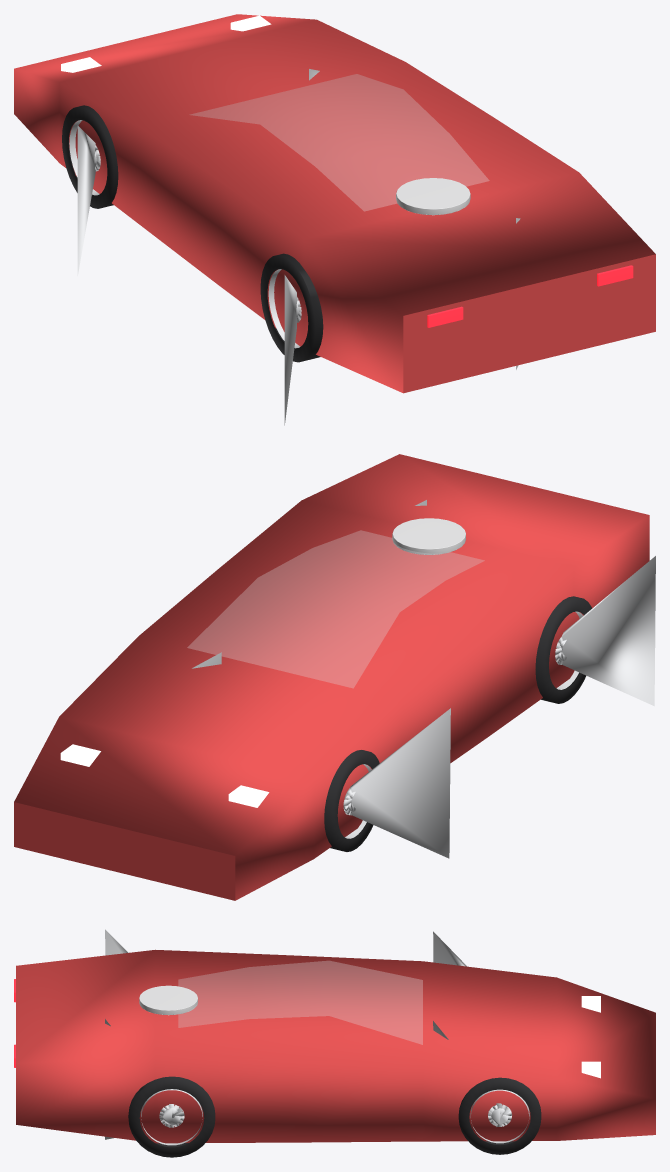
File: Car_Porsche_917_Living_Legend_1970s.glb
The picture shows the model from 3 angles, top to bottom: view 1: azimuth 30°, elevation 25°; view 2: azimuth 150°, elevation 25°; view 3: azimuth 270°, elevation 25°; orthographic projection. The views are drawn at different scales.
Visible parts, largest first — view 1: BODY_917_MainShell, GLASS_Greenhouse, WHEEL_RR_Tire, BODY_Exposed_Fan, WHEEL_FR_Rim, WHEEL_FR_Tire, WHEEL_RR_Rim, LIGHT_Taillights, LIGHT_Headlights; view 2: BODY_917_MainShell, GLASS_Greenhouse, WHEEL_FR_Rim, WHEEL_RR_Rim, BODY_Exposed_Fan, WHEEL_RR_Tire, WHEEL_FR_Tire, LIGHT_Headlights; view 3: BODY_917_MainShell, GLASS_Greenhouse, WHEEL_RL_Tire, WHEEL_FL_Tire, BODY_Exposed_Fan, WHEEL_RL_Rim, WHEEL_FL_Rim, LIGHT_Headlights, WHEEL_FR_Rim.
Part boxes in pixels (x1,y1,x2,y2): BODY_917_MainShell: (14,14,655,393); GLASS_Greenhouse: (190,74,489,211); WHEEL_RR_Tire: (260,253,323,362); BODY_Exposed_Fan: (396,178,470,215); WHEEL_FR_Rim: (69,120,100,275); WHEEL_FR_Tire: (62,105,118,208); WHEEL_RR_Rim: (268,269,301,425); LIGHT_Taillights: (427,265,633,327); LIGHT_Headlights: (61,15,271,72); BODY_917_MainShell: (14,454,649,900); GLASS_Greenhouse: (187,530,484,687); WHEEL_FR_Rim: (343,708,450,858); WHEEL_RR_Rim: (555,556,655,706); BODY_Exposed_Fan: (392,518,465,554); WHEEL_RR_Tire: (535,596,591,703); WHEEL_FR_Tire: (324,750,379,851); LIGHT_Headlights: (60,744,269,807); BODY_917_MainShell: (16,949,655,1143); GLASS_Greenhouse: (178,961,422,1044); WHEEL_RL_Tire: (128,1076,215,1157); WHEEL_FL_Tire: (458,1077,541,1154); BODY_Exposed_Fan: (139,985,197,1015); WHEEL_RL_Rim: (105,1019,202,1145); WHEEL_FL_Rim: (433,1021,529,1143); LIGHT_Headlights: (581,996,600,1078); WHEEL_FR_Rim: (433,931,466,966).
Size of the model in its own units: 2.27 by 1.12 by 4.8.
